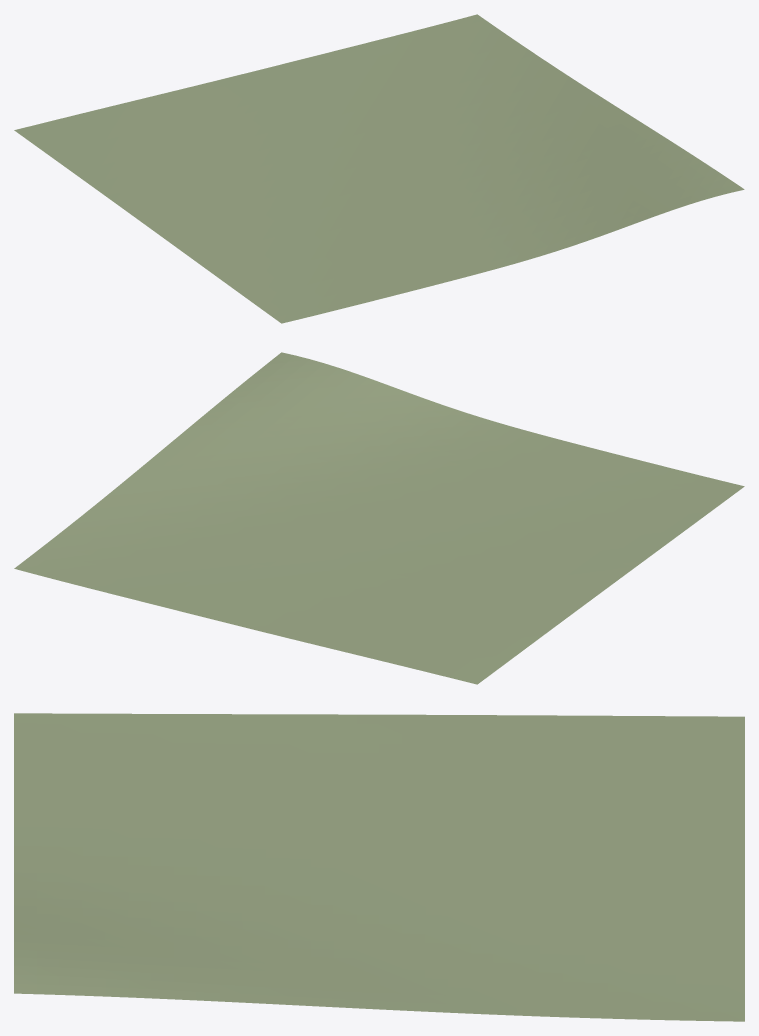
Rendered from desert-2-2.glb.
3 renders of one model, top to bottom at view 1: azimuth 30°, elevation 25°; view 2: azimuth 150°, elevation 25°; view 3: azimuth 270°, elevation 25°, orthographic. The views are drawn at different scales.
Visible parts, largest first — view 1: desert-2-2; view 2: desert-2-2; view 3: desert-2-2.
Boxes of the visible parts, x1,y1,x2,y2 form: desert-2-2: (14, 14, 744, 323); desert-2-2: (14, 352, 744, 684); desert-2-2: (14, 713, 744, 1021).
Bounding box in the file's own units: 512 × 24.97 × 512.
